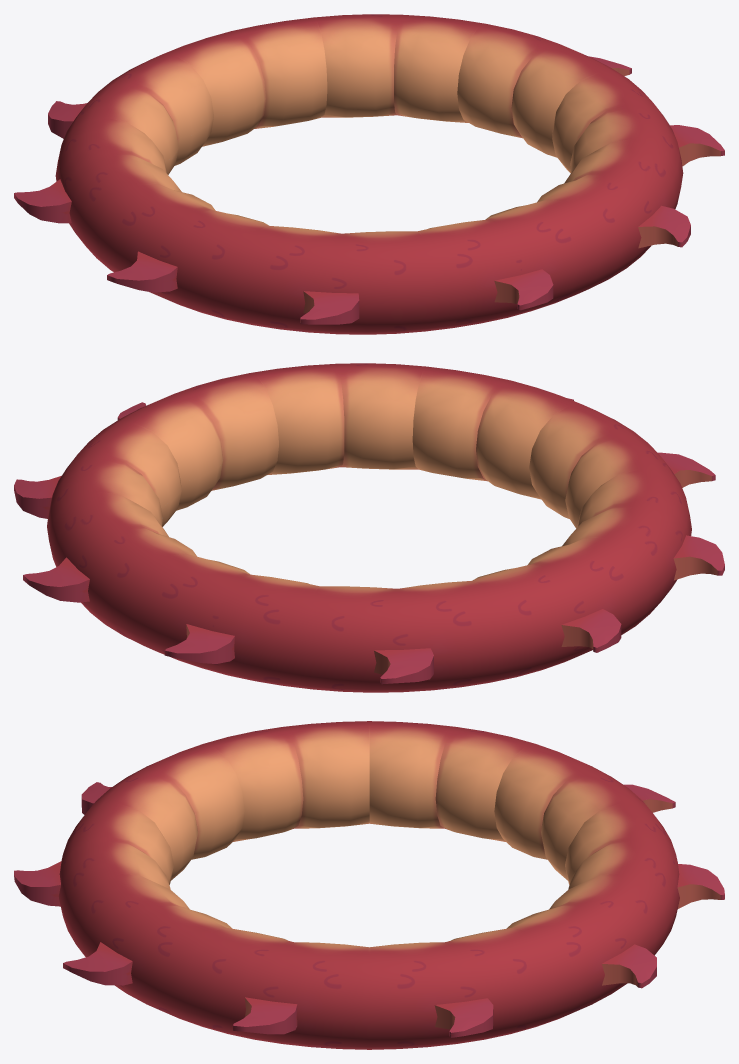
The model's file is Dragon_V01.fbx.
3 renders of one model, top to bottom at view 1: azimuth 30°, elevation 25°; view 2: azimuth 150°, elevation 25°; view 3: azimuth 270°, elevation 25°, orthographic. The views are drawn at different scales.
Parts seen in each view (by area): view 1: Dragon; view 2: Dragon; view 3: Dragon.
Part boxes in pixels (left/top/right/bottom): Dragon: left=14, top=14, right=724, bottom=334; Dragon: left=14, top=363, right=724, bottom=692; Dragon: left=14, top=721, right=724, bottom=1049.
Size of the model in its own units: 1700 by 245 by 1700.
1 material, 1 textured.
